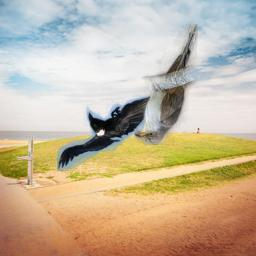Crow: (57, 95, 158, 171)
Cuckoo: (134, 24, 198, 145)
